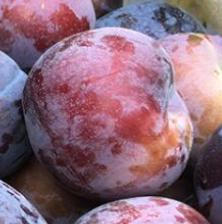plum_B: (22, 26, 194, 202)
